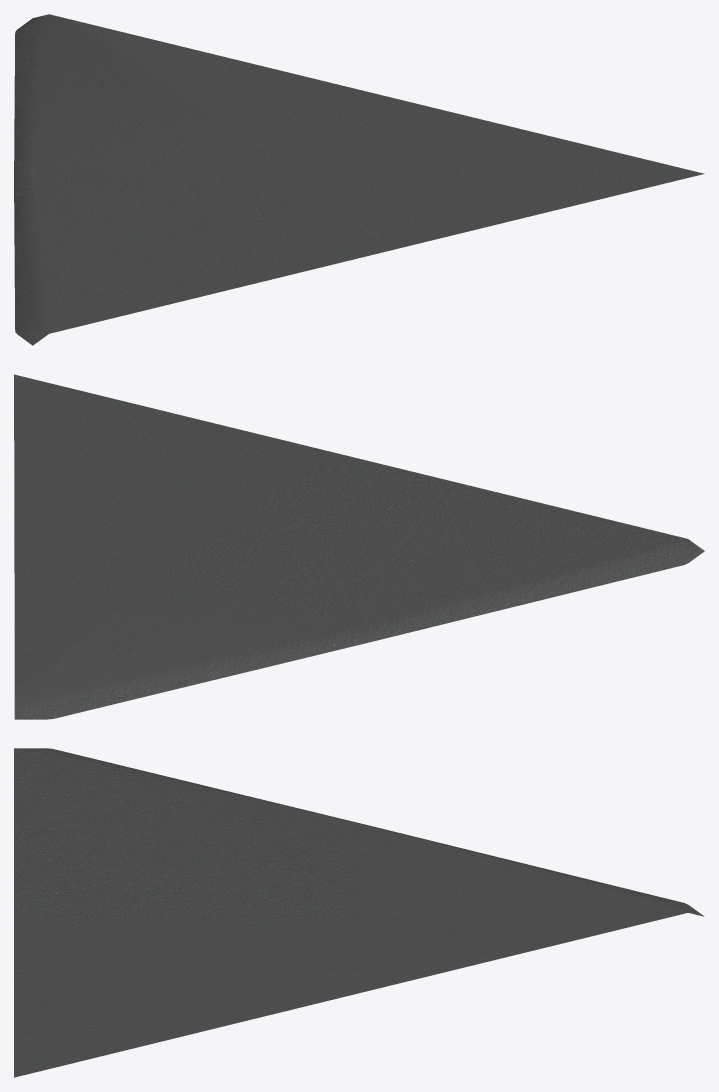
Rendered from ceiling06.FBX.
3 views of the same model, one above another, from view 1: azimuth 30°, elevation 25°; view 2: azimuth 150°, elevation 25°; view 3: azimuth 270°, elevation 25° (orthographic). The views are drawn at different scales.
Parts seen in each view (by area): view 1: ceiling06; view 2: ceiling06; view 3: ceiling06.
Part boxes in pixels (bbox=[...]): ceiling06: bbox=[14, 14, 704, 345]; ceiling06: bbox=[14, 374, 704, 719]; ceiling06: bbox=[14, 748, 704, 1077].
Size of the model in its own units: 260 by 2.92 by 224.
Materials: 1 (1 with a texture image).
